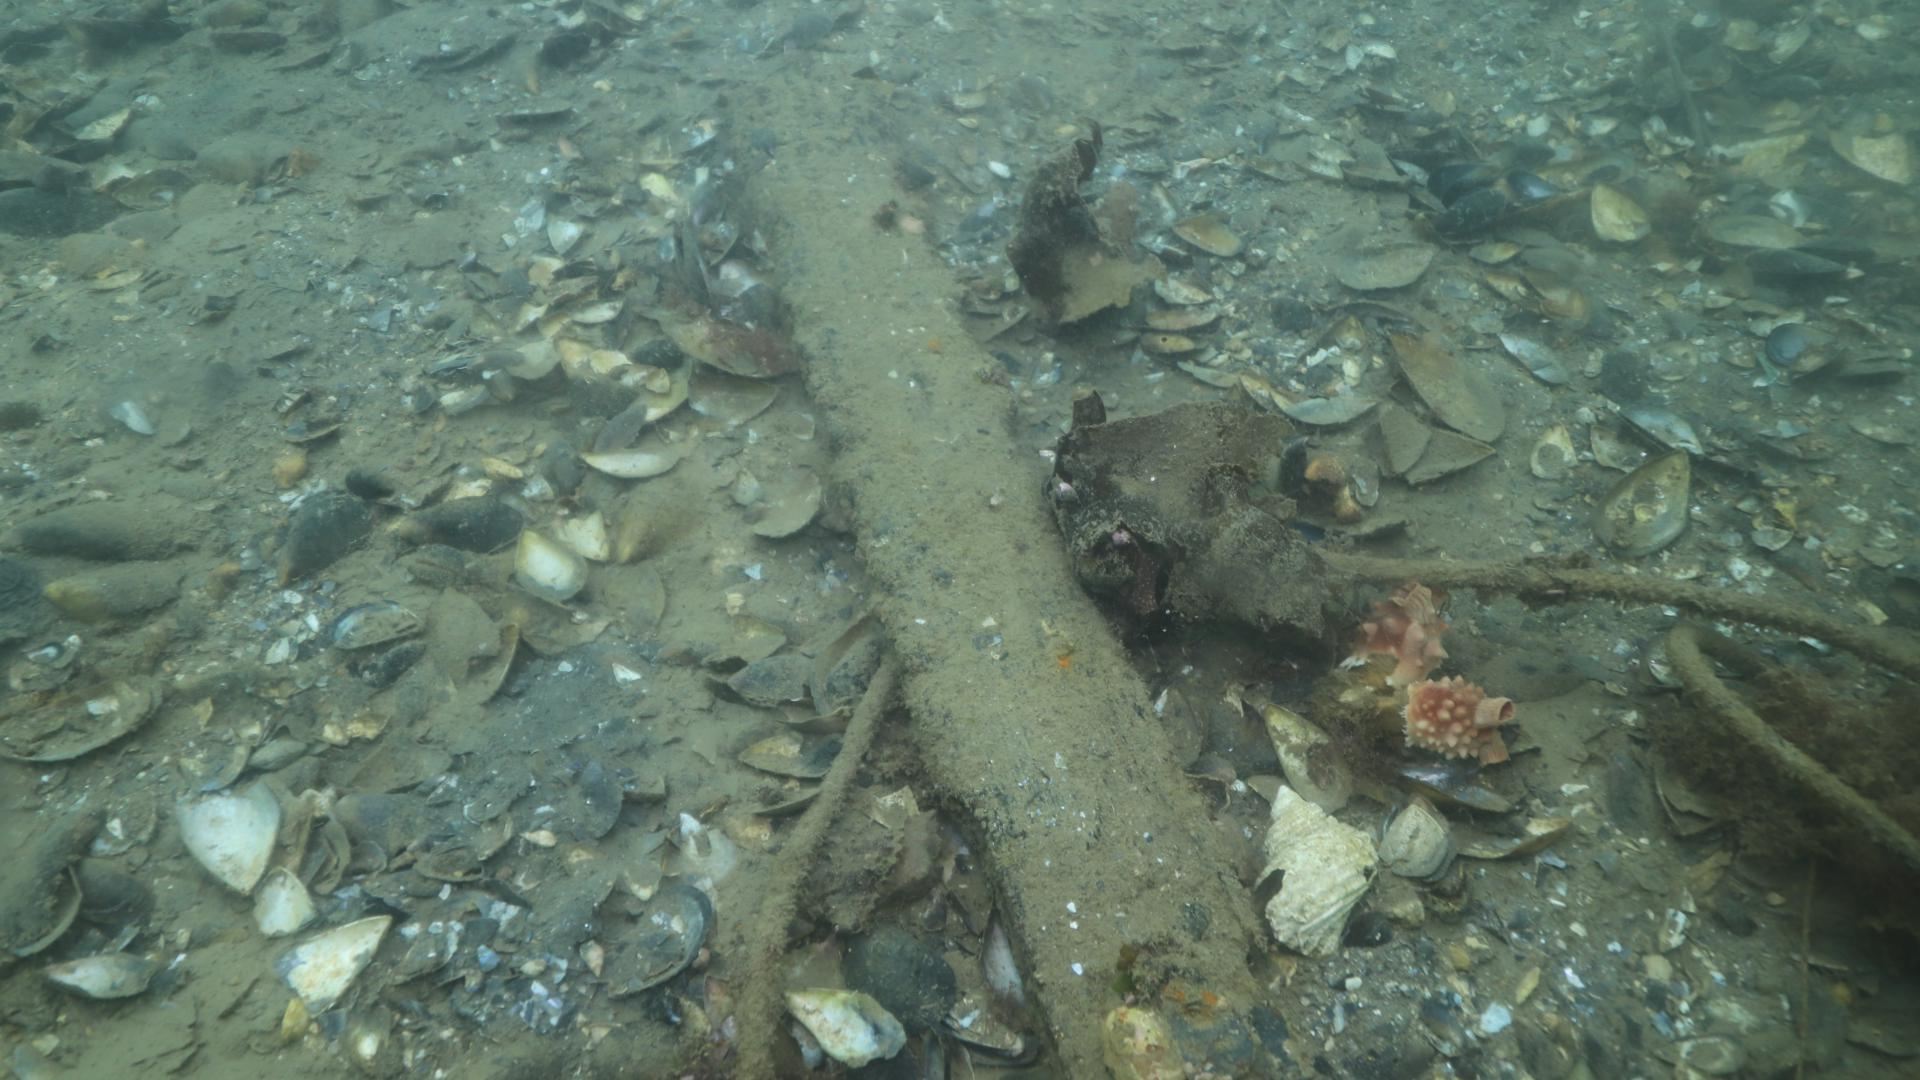bundle of ropes: (1321, 550, 1920, 866)
rope: (738, 641, 893, 1080)
wood: (723, 71, 1320, 1080)
